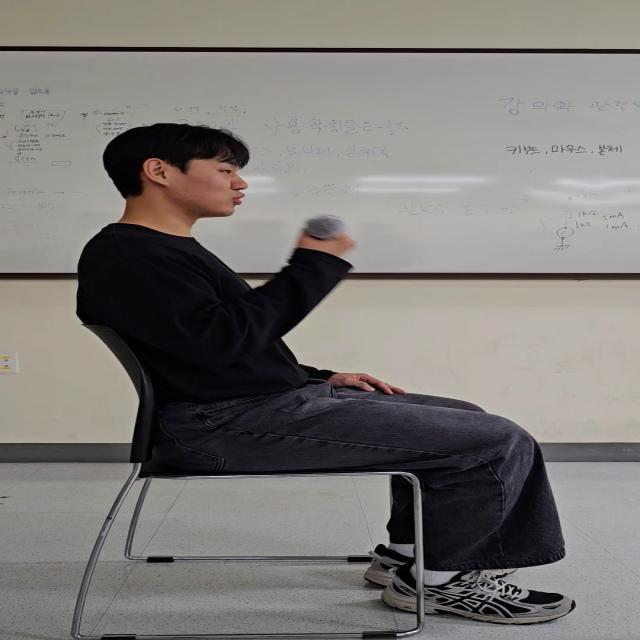curl: (218, 250, 330, 344), (134, 262, 219, 346)
